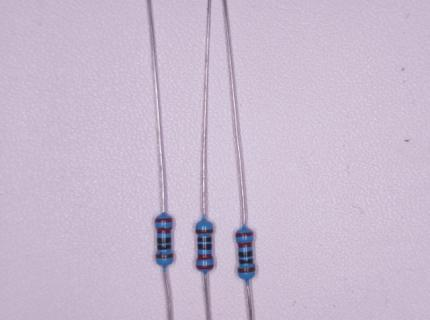Black band: (157, 237, 172, 243), (239, 251, 253, 257), (198, 244, 212, 249), (239, 259, 253, 264), (198, 237, 211, 242), (157, 245, 171, 249)
Brown band: (156, 253, 173, 258), (238, 268, 255, 273), (196, 229, 213, 233)
Red band: (235, 232, 253, 237), (238, 242, 252, 248), (197, 254, 213, 259), (157, 228, 172, 233), (155, 218, 173, 222), (197, 265, 214, 269)
